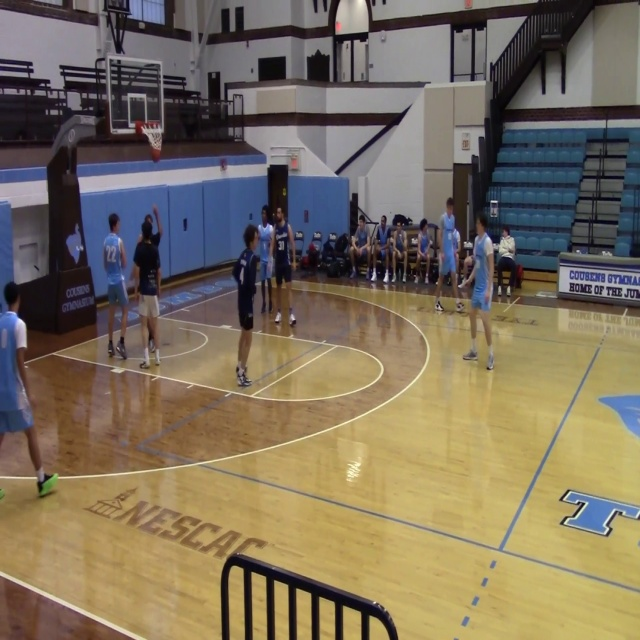Basketball: (151, 148, 161, 162)
